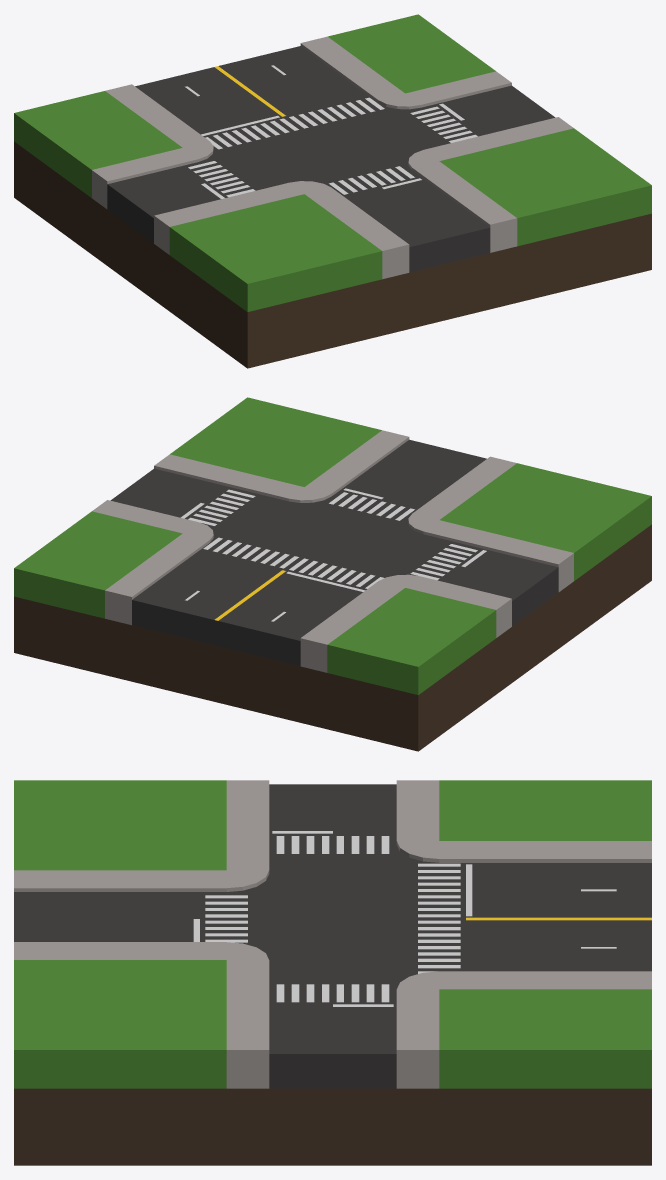
The model's file is tile-roads-mainroad-intersection.glb.
3 views of the same model, one above another, from view 1: azimuth 30°, elevation 25°; view 2: azimuth 150°, elevation 25°; view 3: azimuth 270°, elevation 25° (orthographic). The views are drawn at different scales.
Parts seen in each view (by area): view 1: tile-roads-mainroad-intersection; view 2: tile-roads-mainroad-intersection; view 3: tile-roads-mainroad-intersection.
Boxes of the visible parts, <box> form: tile-roads-mainroad-intersection: <box>14,14,651,368</box>; tile-roads-mainroad-intersection: <box>14,397,651,751</box>; tile-roads-mainroad-intersection: <box>14,780,651,1165</box>.
Size of the model in its own units: 30 by 6 by 30.
Materials: 1 (1 with a texture image).
